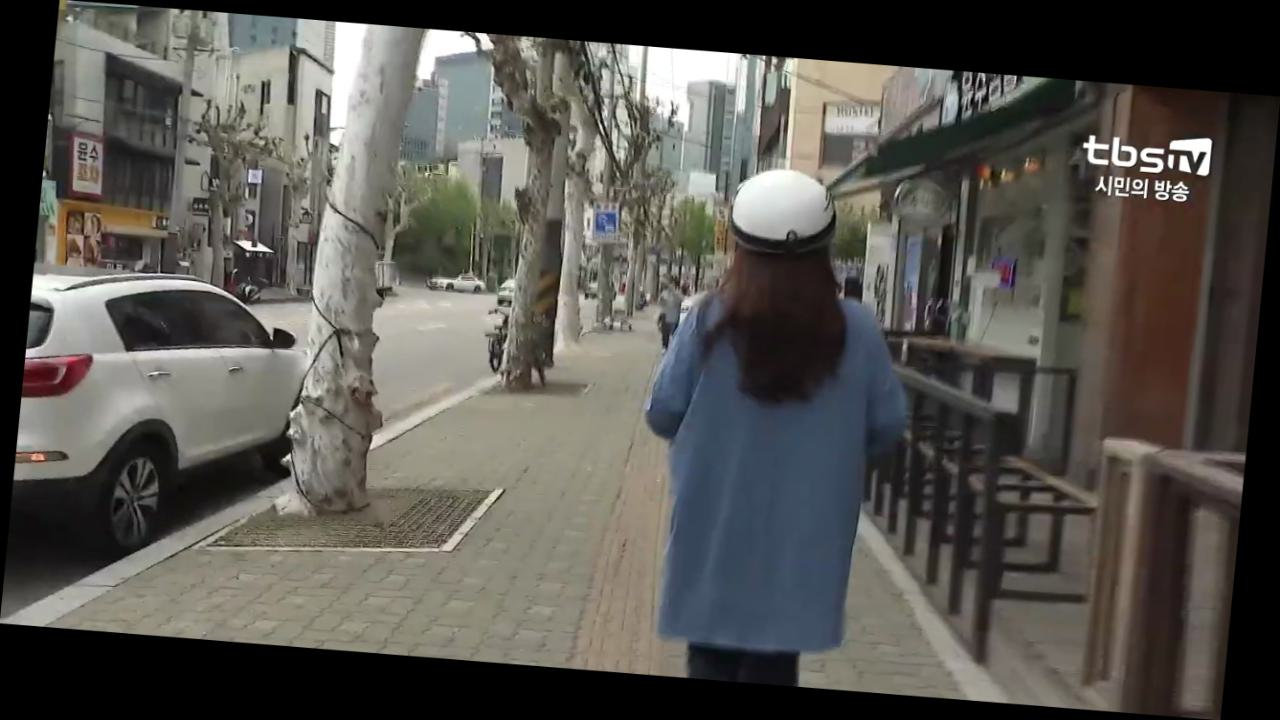helmet: (620, 159, 936, 694)
